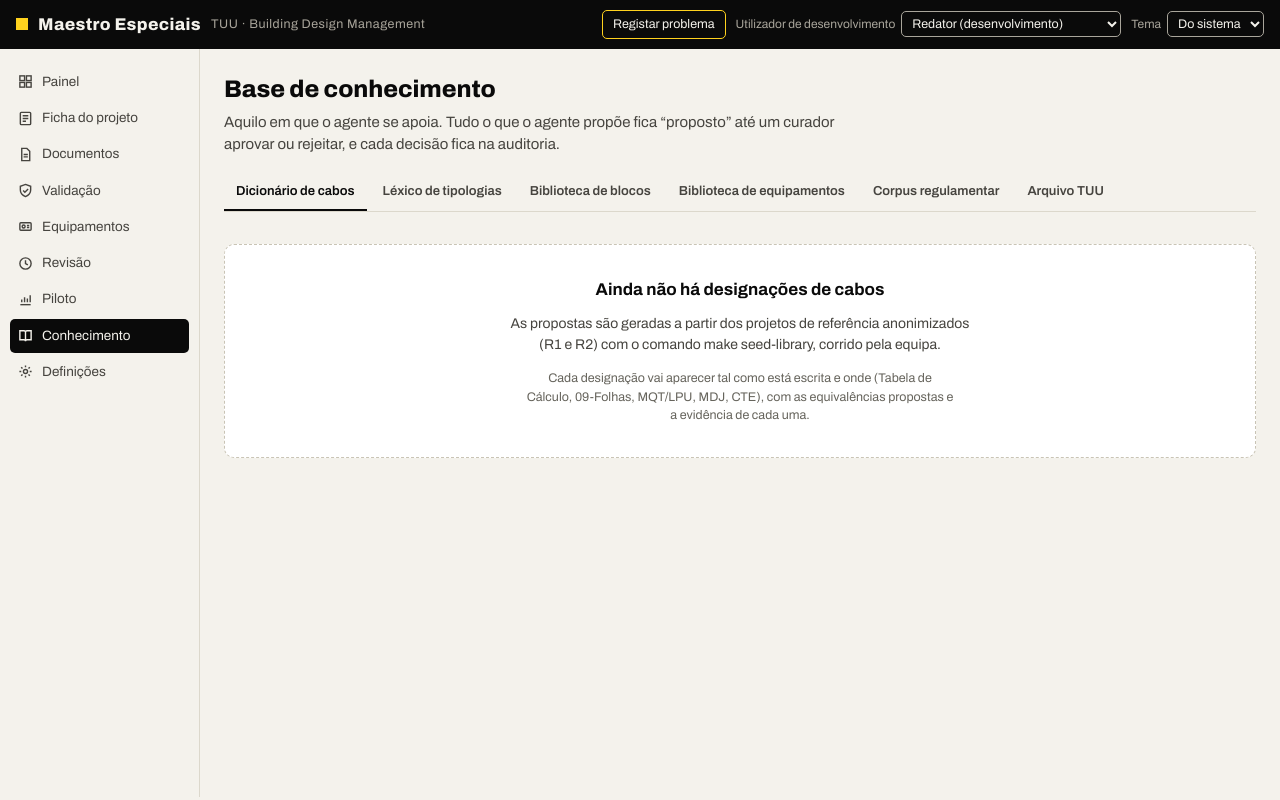
knowledge base (screen G) › starts empty and says where the proposals come from
Expected: the heading "Ainda não há designações de cabos" is shown, 596,277 -> 884,303
Expected: the text "make seed-library" is shown, 510,316 -> 970,352
What coordinates should you click on to do the following:
click the tab "Léxico de tipologias"
I would click on:
 (442, 193)
Its box is 370,174 -> 514,211.
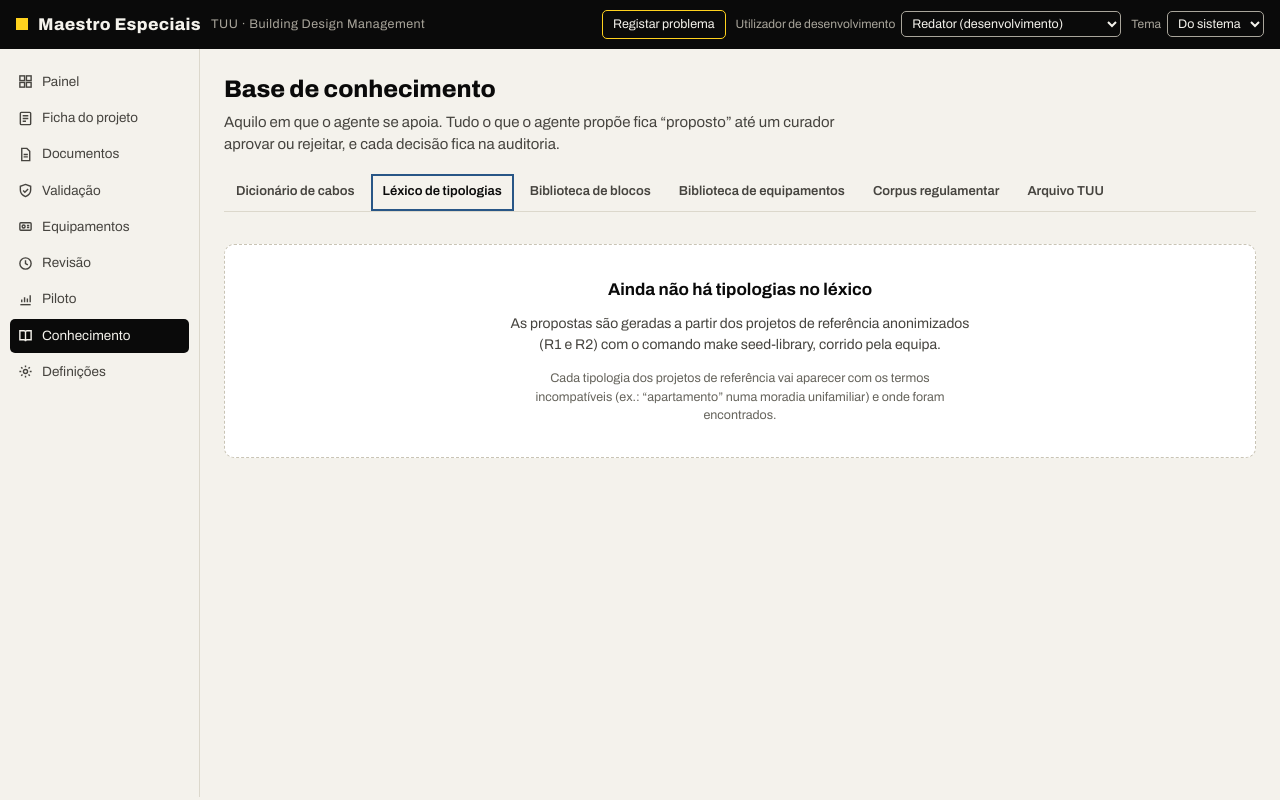
Expected: the heading "Ainda não há tipologias no léxico" is shown, 608,277 -> 872,303
What coordinates should you click on to do the following:
click the tab "Biblioteca de blocos"
I would click on:
 (590, 193)
Its box is 518,174 -> 663,211.
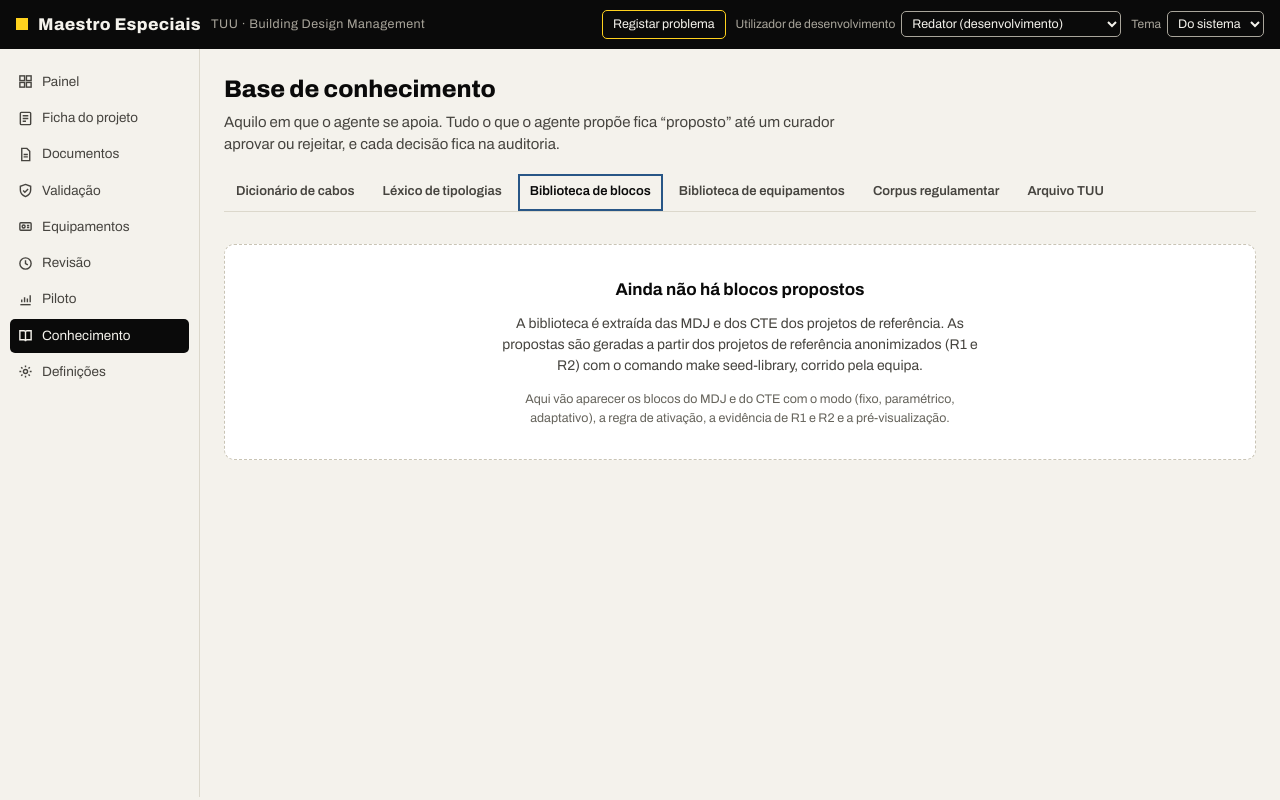
Expected: the heading "Ainda não há blocos propostos" is shown, 616,277 -> 865,303
What coordinates should you click on to do the following:
click the tab "Corpus regulamentar"
I would click on:
 (936, 193)
Its box is 861,174 -> 1011,211.
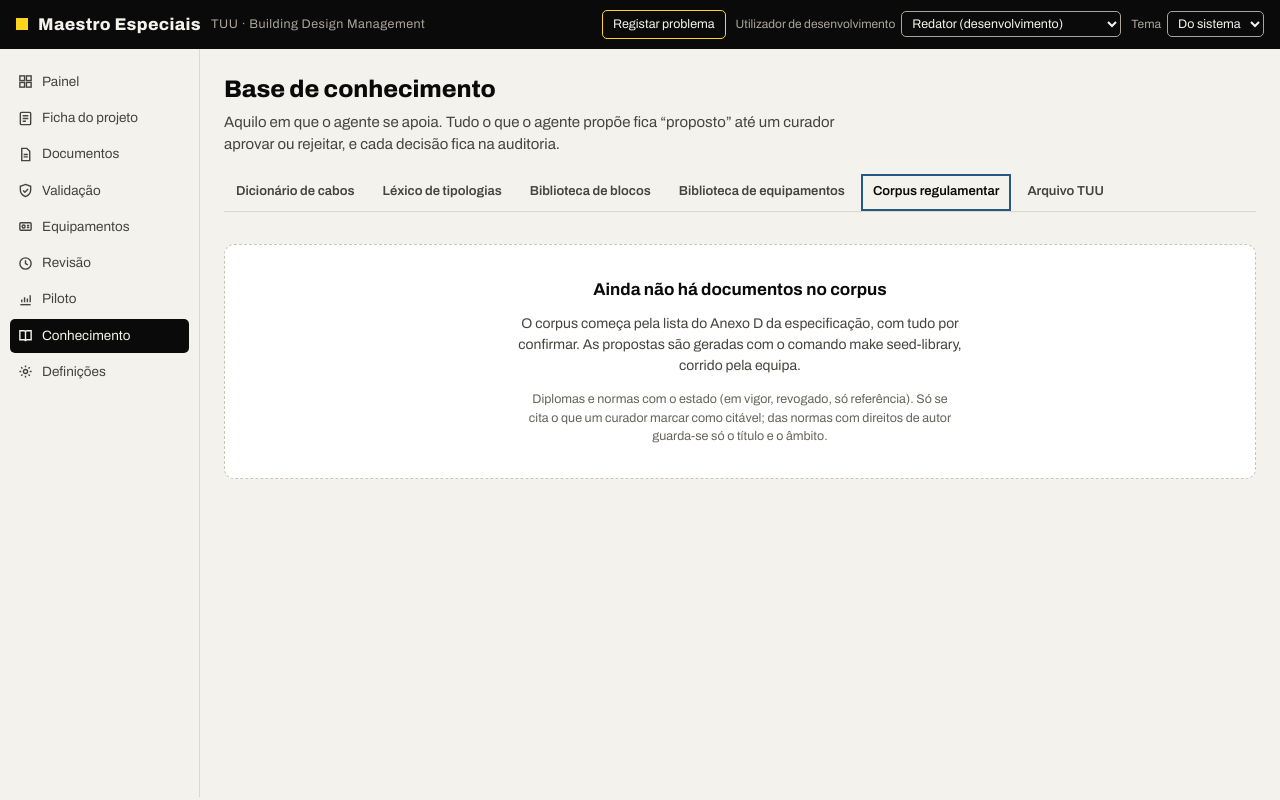
Expected: the heading "Ainda não há documentos no corpus" is shown, 593,277 -> 887,303
